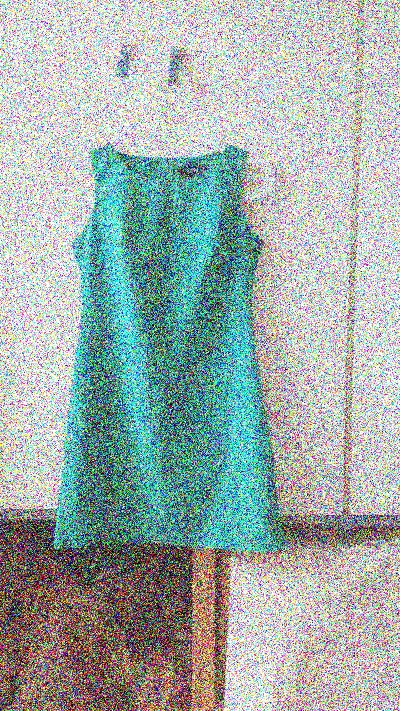Dress: (29, 109, 331, 593)
